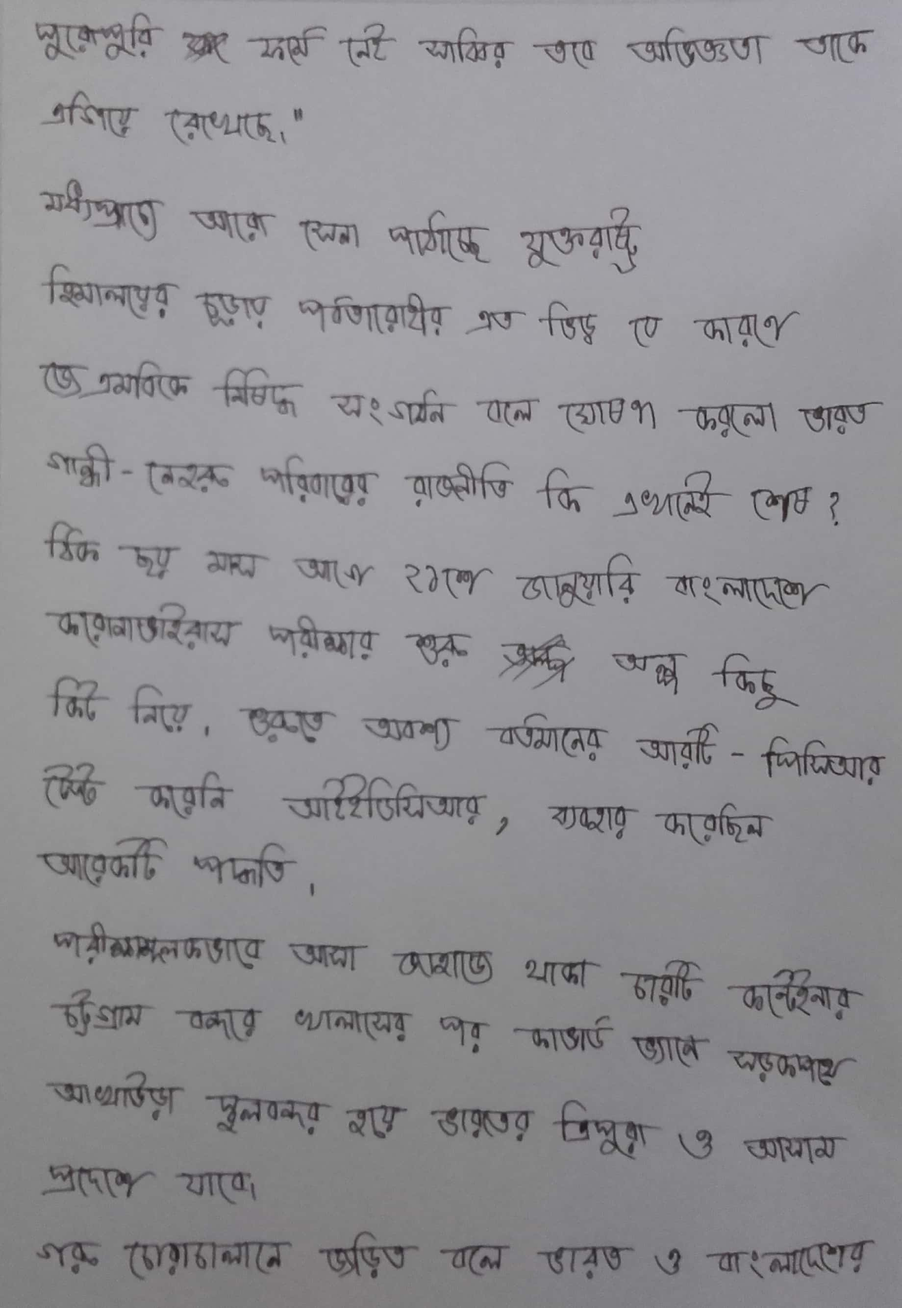line: (46, 676, 889, 788), (50, 920, 869, 1025), (43, 1068, 850, 1174), (48, 987, 864, 1090), (46, 601, 807, 710), (44, 517, 830, 613), (37, 358, 884, 444), (40, 442, 849, 530), (42, 262, 803, 351), (39, 760, 772, 850), (37, 178, 645, 276), (25, 9, 876, 72), (29, 1230, 877, 1283), (33, 835, 321, 900), (41, 90, 309, 147), (42, 1158, 260, 1209)
